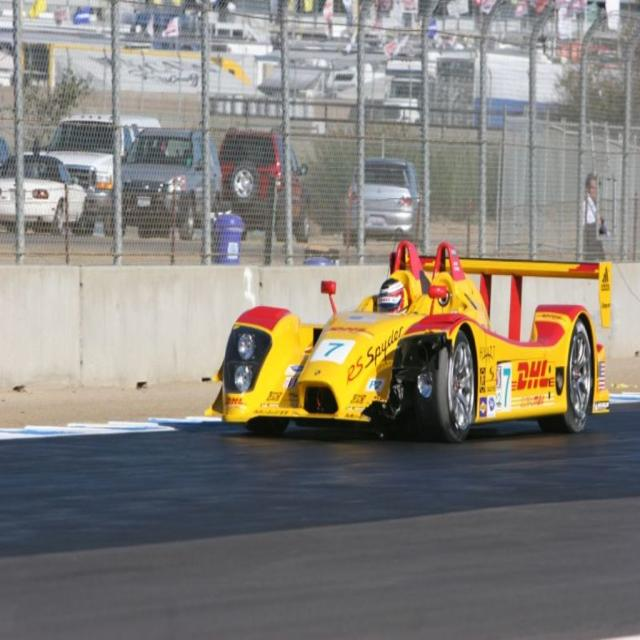car: (201, 238, 610, 443)
